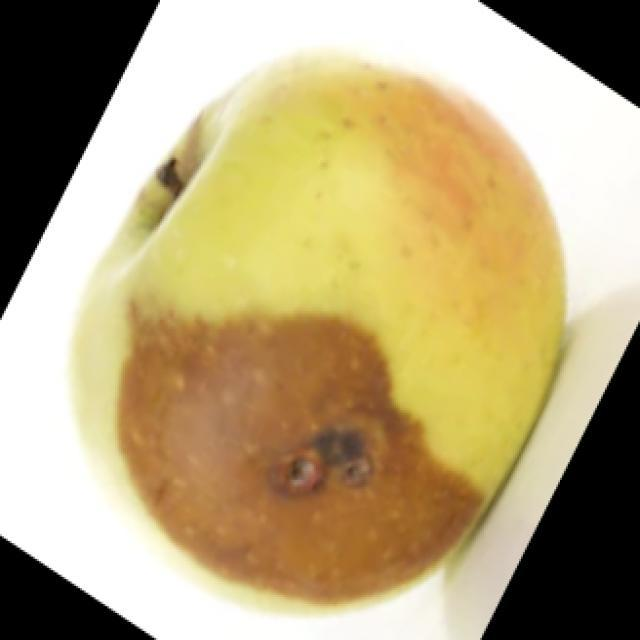Rotten: (101, 66, 576, 612)
